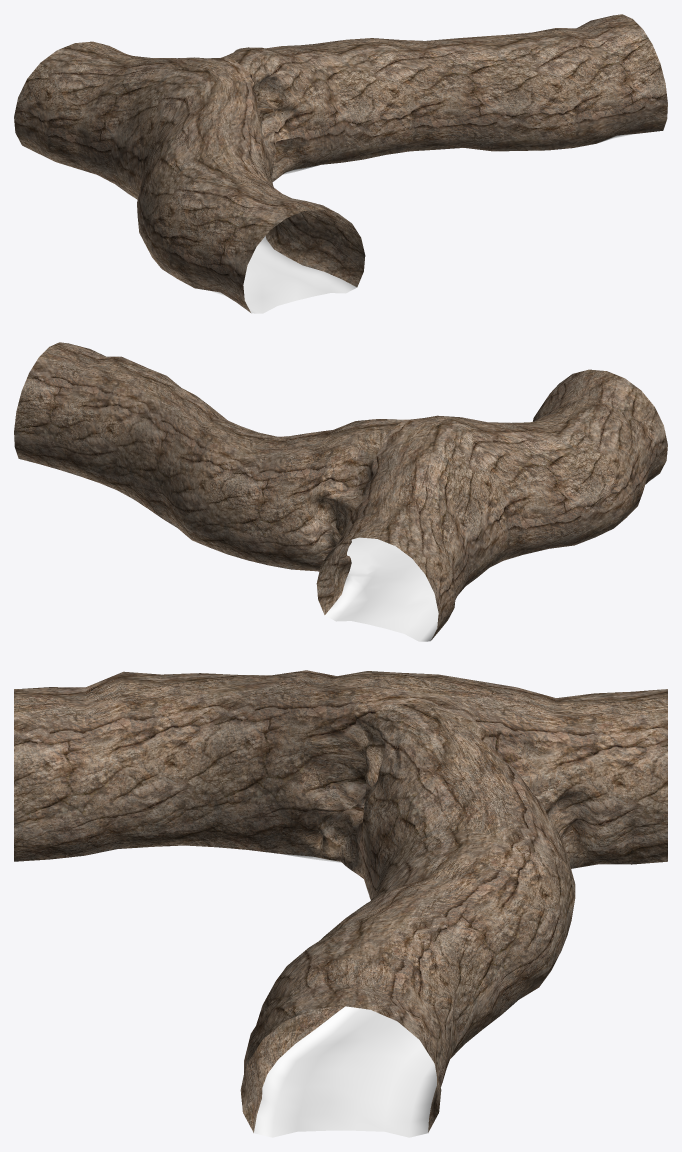
The model's file is CaveCorridorSplit.fbx.
3 views of the same model, one above another, from view 1: azimuth 30°, elevation 25°; view 2: azimuth 150°, elevation 25°; view 3: azimuth 270°, elevation 25° (orthographic). The views are drawn at different scales.
Visible parts, largest first — view 1: CaveCorridorSplit; view 2: CaveCorridorSplit; view 3: CaveCorridorSplit.
Boxes of the visible parts, <box> form: CaveCorridorSplit: <box>14,14,667,313</box>; CaveCorridorSplit: <box>14,342,667,641</box>; CaveCorridorSplit: <box>14,670,667,1137</box>.
Size of the model in its own units: 1376 by 317 by 1040.
